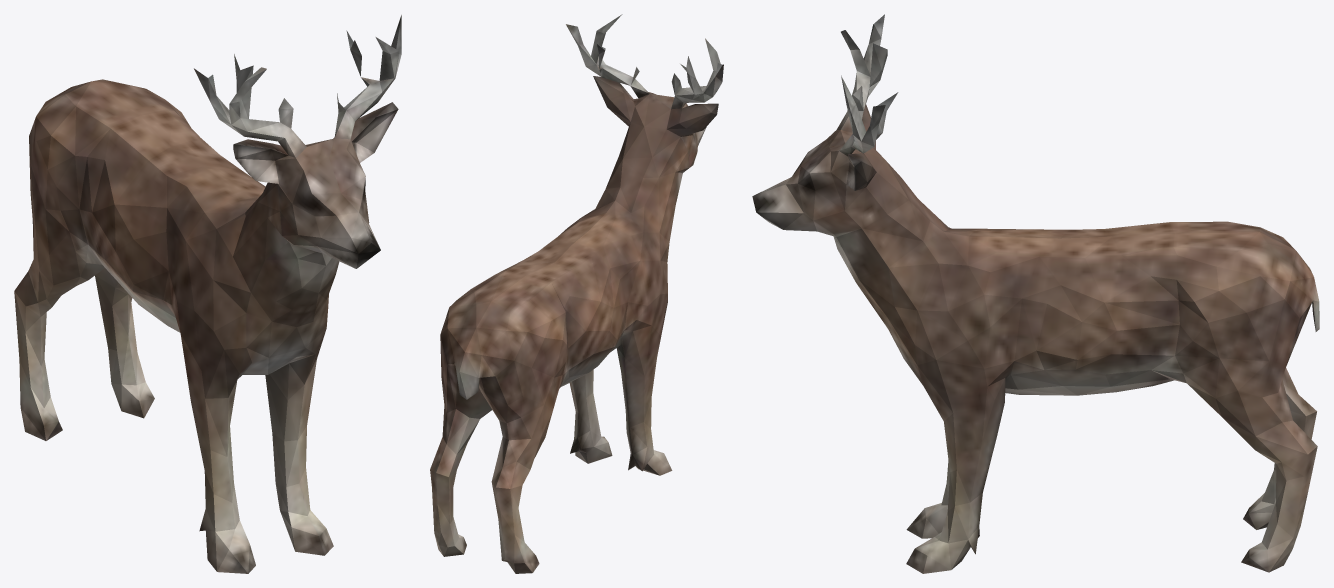
The model's file is r32_tier_reh.glb.
3 renders of one model, left to right at view 1: azimuth 30°, elevation 25°; view 2: azimuth 150°, elevation 25°; view 3: azimuth 270°, elevation 25°, orthographic. The views are drawn at different scales.
Parts seen in each view (by area): view 1: reh; view 2: reh; view 3: reh.
Boxes of the visible parts, x1,y1,x2,y2 form: reh: (14,15,401,573); reh: (430,14,723,573); reh: (752,14,1319,573).
Size of the model in its own units: 0.4021 by 1 by 1.03.
Materials: 1 (1 with a texture image).
